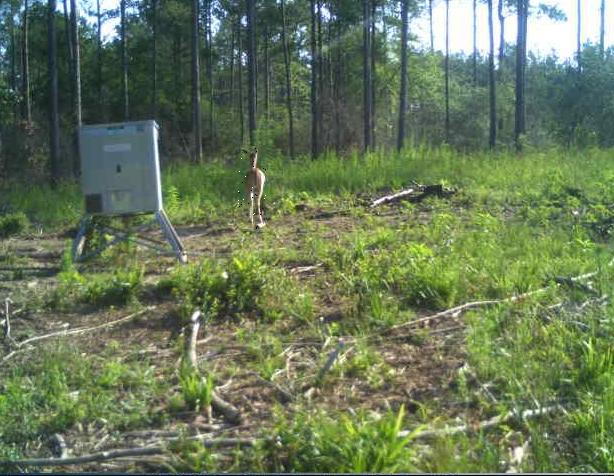Deer: (238, 147, 268, 231)
